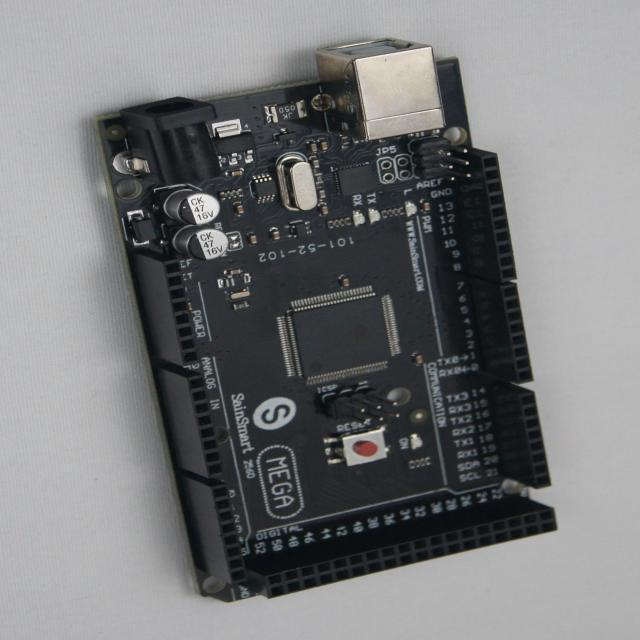Arduino Mega 2560 -Black-: (99, 41, 557, 602)
